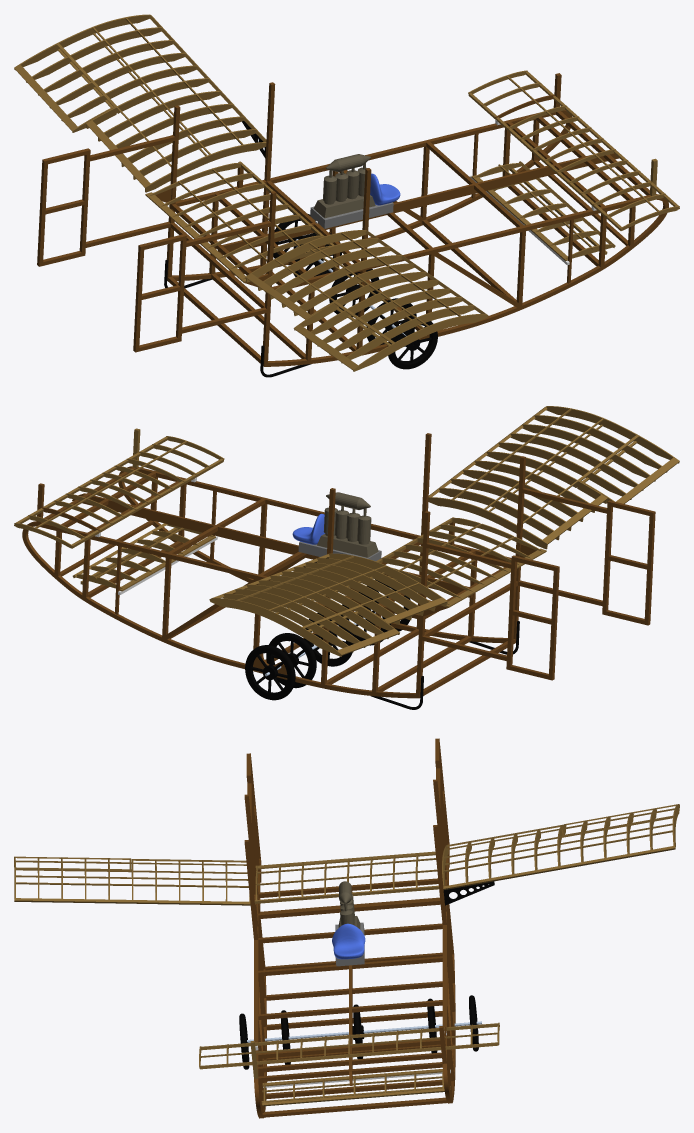
The model's file is Valkyrie.glb.
The picture shows the model from 3 angles, top to bottom: view 1: azimuth 30°, elevation 25°; view 2: azimuth 150°, elevation 25°; view 3: azimuth 270°, elevation 25°; orthographic projection.
Parts seen in each view (by area): view 1: Valkyrie v30a.003, Valkyrie v30a.047, Valkyrie v30a.018, Valkyrie v30a.061, Valkyrie v30a.076, Valkyrie v30a.054, Valkyrie v30a.031, Valkyrie v30a.046, Valkyrie v30a.060, Valkyrie v30a.006, Valkyrie v30a.023, Valkyrie v30a.057 (+24 smaller); view 2: Valkyrie v30a.003, Valkyrie v30a.061, Valkyrie v30a.018, Valkyrie v30a.076, Valkyrie v30a.054, Valkyrie v30a.047, Valkyrie v30a.060, Valkyrie v30a.046, Valkyrie v30a.031, Valkyrie v30a.081, Valkyrie v30a.006, Valkyrie v30a.082 (+32 smaller); view 3: Valkyrie v30a.003, Valkyrie v30a.018, Valkyrie v30a.047, Valkyrie v30a.061, Valkyrie v30a.031, Valkyrie v30a.046, Valkyrie v30a.060, Valkyrie v30a.079, Valkyrie v30a.023, Valkyrie v30a.075, Valkyrie v30a.022, Valkyrie v30a.054 (+1 smaller).
Boxes of the visible parts, bbox=[...] form: Valkyrie v30a.003: bbox=[37, 73, 668, 366]; Valkyrie v30a.047: bbox=[57, 17, 266, 192]; Valkyrie v30a.018: bbox=[468, 70, 679, 230]; Valkyrie v30a.061: bbox=[245, 230, 462, 344]; Valkyrie v30a.076: bbox=[218, 153, 618, 254]; Valkyrie v30a.054: bbox=[313, 154, 375, 218]; Valkyrie v30a.031: bbox=[471, 161, 615, 261]; Valkyrie v30a.046: bbox=[14, 14, 266, 141]; Valkyrie v30a.060: bbox=[334, 230, 488, 371]; Valkyrie v30a.006: bbox=[482, 82, 603, 161]; Valkyrie v30a.023: bbox=[148, 163, 331, 279]; Valkyrie v30a.057: bbox=[317, 288, 450, 346]; Valkyrie v30a.003: bbox=[22, 433, 655, 698]; Valkyrie v30a.061: bbox=[428, 408, 637, 549]; Valkyrie v30a.018: bbox=[14, 436, 224, 548]; Valkyrie v30a.076: bbox=[72, 493, 472, 597]; Valkyrie v30a.054: bbox=[317, 492, 378, 557]; Valkyrie v30a.047: bbox=[235, 553, 447, 628]; Valkyrie v30a.060: bbox=[428, 406, 679, 497]; Valkyrie v30a.046: bbox=[209, 554, 361, 656]; Valkyrie v30a.031: bbox=[72, 523, 215, 591]; Valkyrie v30a.081: bbox=[245, 645, 295, 700]; Valkyrie v30a.006: bbox=[28, 479, 148, 538]; Valkyrie v30a.082: bbox=[266, 633, 316, 688]; Valkyrie v30a.003: bbox=[244, 738, 455, 1118]; Valkyrie v30a.018: bbox=[199, 1022, 499, 1069]; Valkyrie v30a.047: bbox=[442, 808, 675, 886]; Valkyrie v30a.061: bbox=[14, 859, 250, 901]; Valkyrie v30a.031: bbox=[261, 1069, 450, 1106]; Valkyrie v30a.046: bbox=[443, 804, 679, 889]; Valkyrie v30a.060: bbox=[14, 856, 250, 905]; Valkyrie v30a.079: bbox=[332, 923, 365, 959]; Valkyrie v30a.023: bbox=[255, 858, 438, 901]; Valkyrie v30a.075: bbox=[255, 851, 435, 869]; Valkyrie v30a.022: bbox=[254, 885, 438, 903]; Valkyrie v30a.054: bbox=[338, 881, 360, 929].
Bounding box in the file's own units: 427 × 172 × 471.
